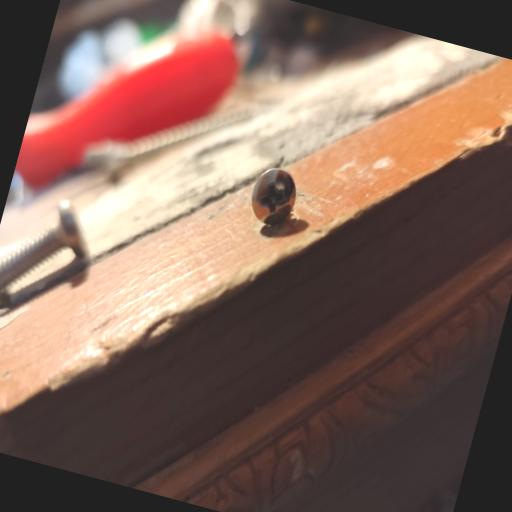Phillips: (240, 156, 303, 232)
